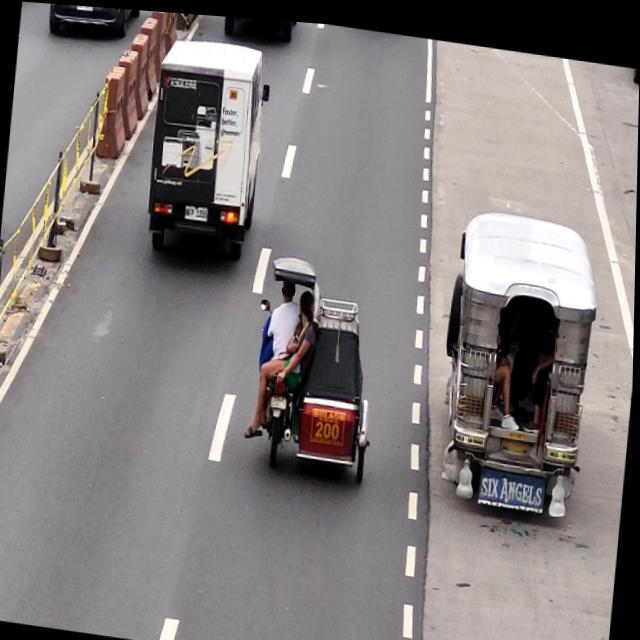Car: (146, 32, 264, 262)
Jeep: (438, 201, 599, 510)
License-Plate: (185, 199, 209, 219), (270, 389, 289, 406)
Tricycle: (249, 249, 384, 477)
